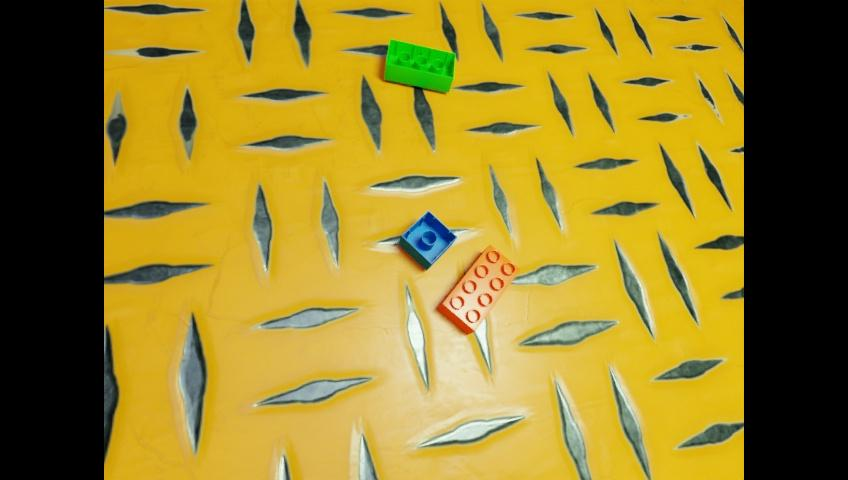2x2_blue: (398, 210, 456, 270)
4x2_green: (384, 38, 454, 92)
4x2_orange: (437, 244, 519, 334)
